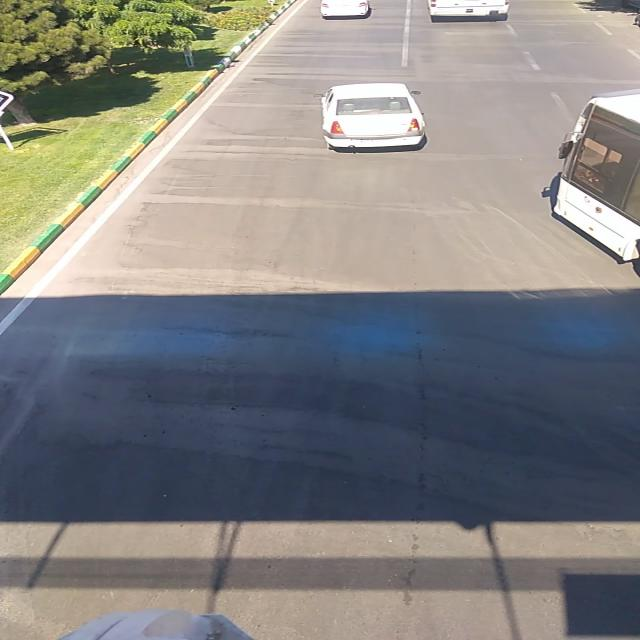bus: (552, 87, 638, 265)
car: (309, 83, 432, 150), (316, 1, 376, 19)
